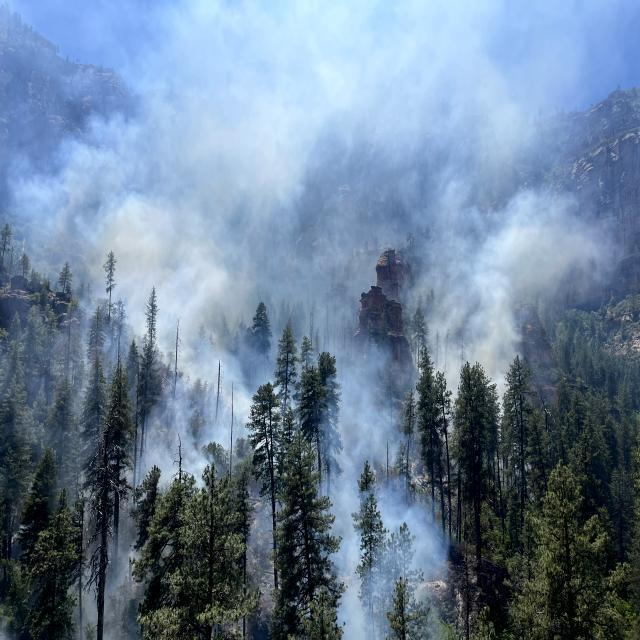Smoke: (30, 0, 640, 436), (315, 428, 467, 638)
